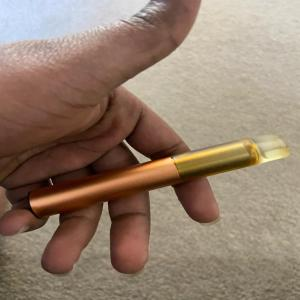Golden-E-Ciggirate: (28, 132, 294, 221)
